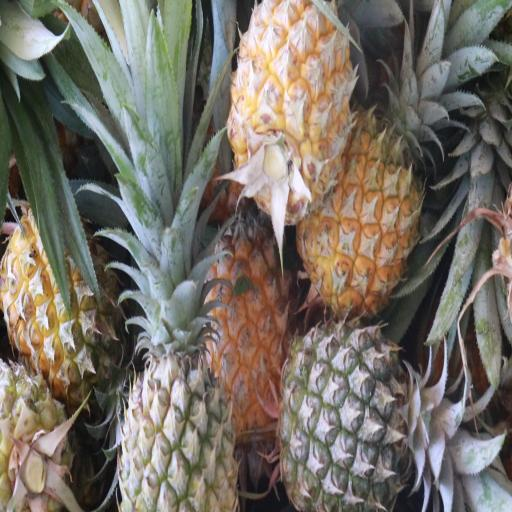------------------------------: (3, 203, 117, 390)
Pineapple - v8 v1: (225, 0, 351, 221), (301, 117, 422, 314), (206, 211, 294, 437)
